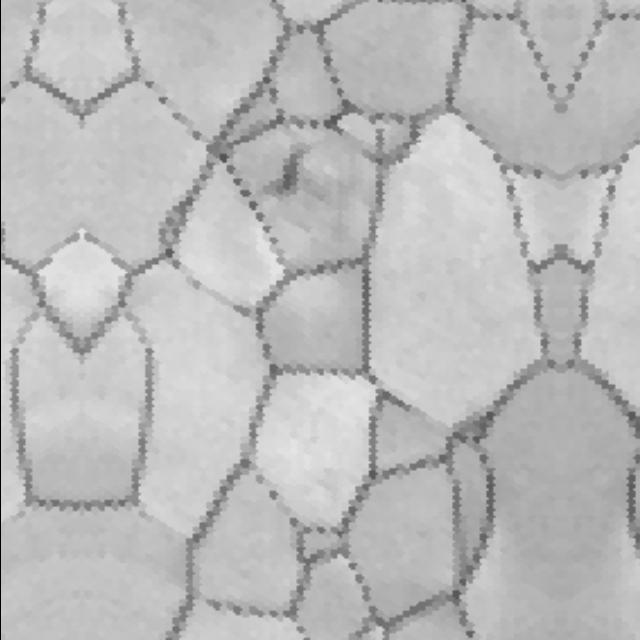good_void: (256, 138, 310, 205)
